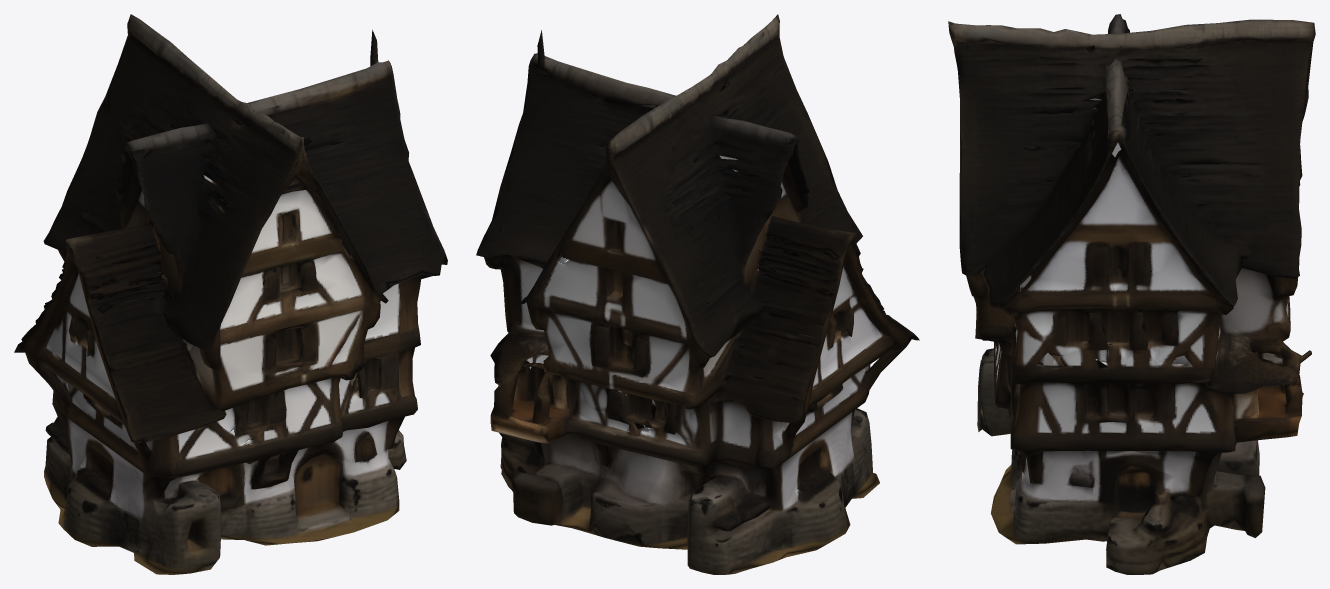
The model's file is inn.glb.
3 renders of one model, left to right at view 1: azimuth 30°, elevation 25°; view 2: azimuth 150°, elevation 25°; view 3: azimuth 270°, elevation 25°, orthographic. The views are drawn at different scales.
Parts seen in each view (by area): view 1: geometry_0; view 2: geometry_0; view 3: geometry_0.
Part boxes in pixels (<box>): geometry_0: <box>14,14,447,574</box>; geometry_0: <box>476,14,919,574</box>; geometry_0: <box>948,14,1315,574</box>.
Bounding box in the file's own units: 0.81 × 0.9865 × 0.7024.
Materials: 1 (1 with a texture image).
